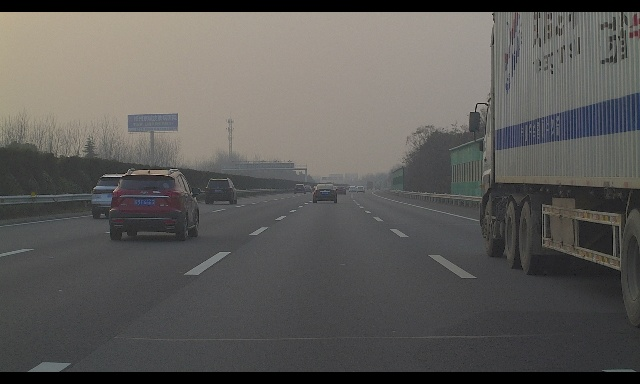car: (109, 168, 201, 241), (91, 173, 139, 219), (205, 178, 238, 204), (312, 184, 339, 203), (294, 184, 306, 194), (334, 186, 347, 195), (303, 185, 312, 193), (356, 186, 365, 193), (349, 186, 357, 192)
truck: (469, 12, 640, 327), (374, 182, 381, 190), (367, 181, 373, 190)
